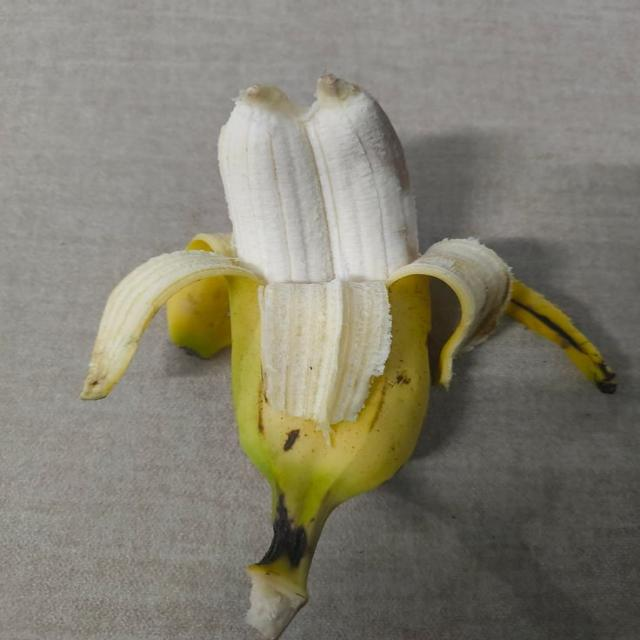banana: (82, 76, 614, 638)
